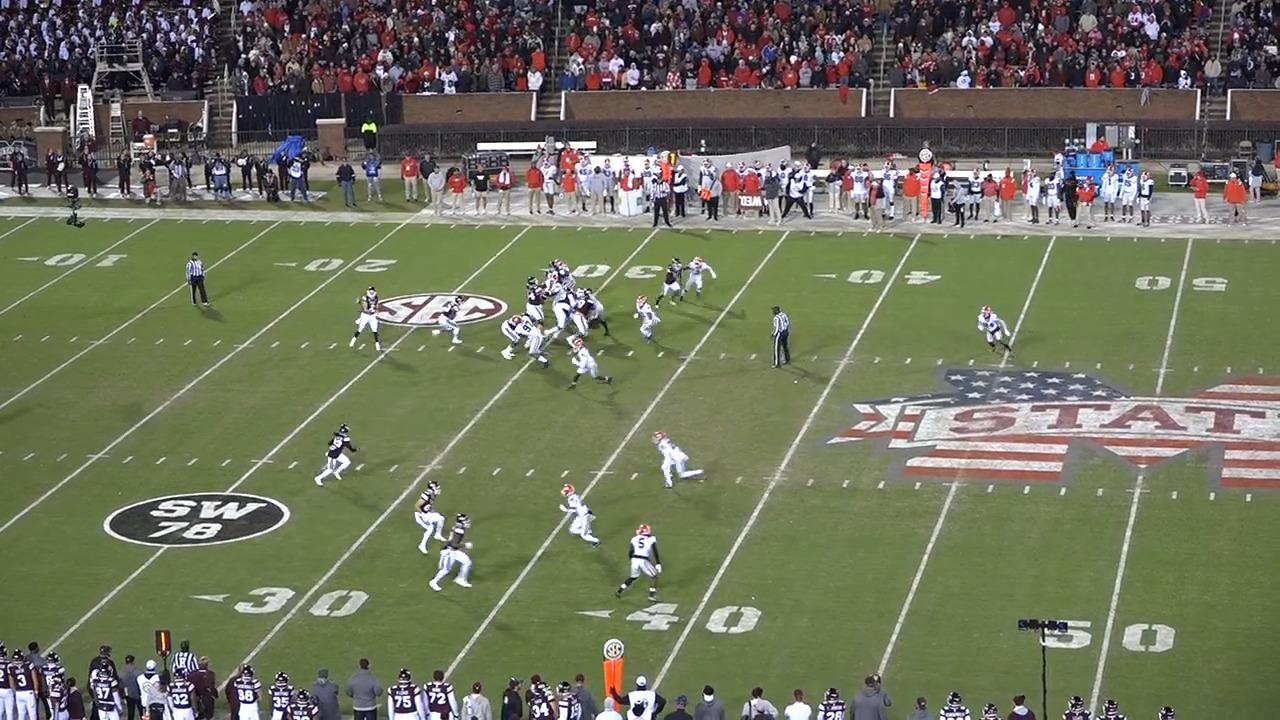defense: (618, 521, 669, 604), (648, 429, 704, 492), (560, 482, 606, 550), (569, 335, 615, 389), (978, 307, 1017, 361), (517, 314, 551, 369), (581, 288, 612, 340), (684, 255, 718, 302), (631, 296, 660, 350), (568, 290, 589, 345), (548, 261, 573, 288)
oline: (543, 287, 575, 341), (567, 288, 593, 348), (526, 274, 550, 330), (502, 311, 530, 358), (543, 260, 565, 281)
qb: (349, 285, 387, 355)
ref: (181, 250, 210, 312), (770, 304, 796, 372), (647, 174, 673, 232), (169, 638, 199, 682)
skill: (428, 509, 477, 593), (316, 420, 363, 488), (416, 482, 452, 557), (655, 253, 689, 309), (430, 293, 465, 347)
